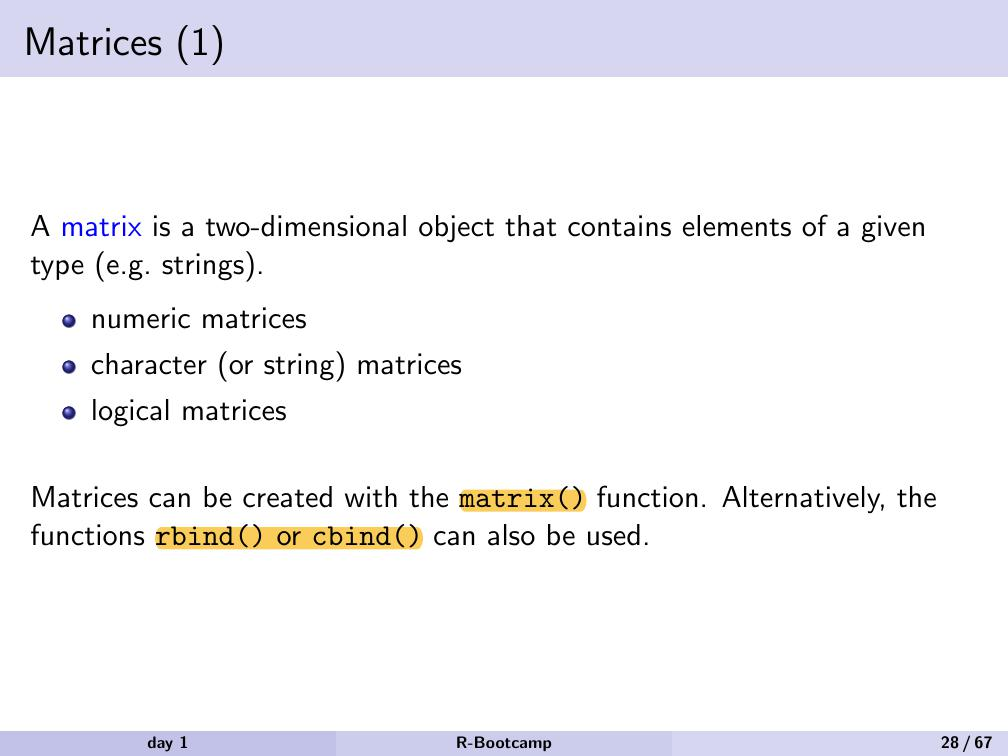Title: (15, 15, 223, 76)
